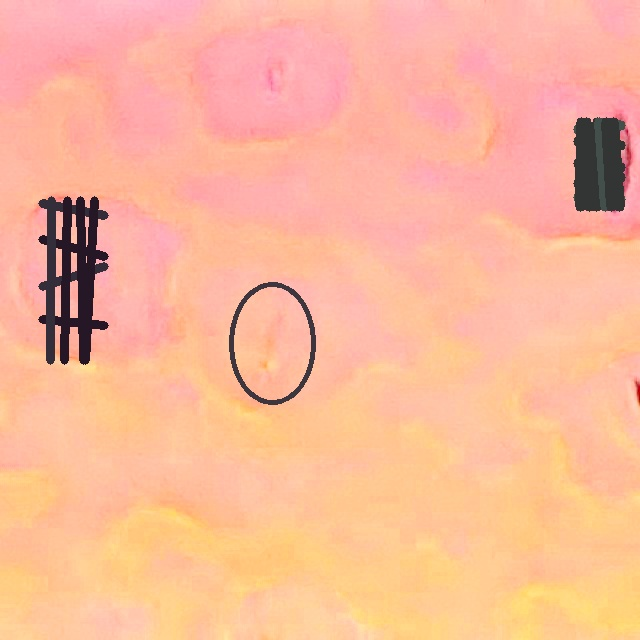close: (38, 197, 107, 364), (228, 280, 317, 405)
open: (573, 118, 625, 210)
